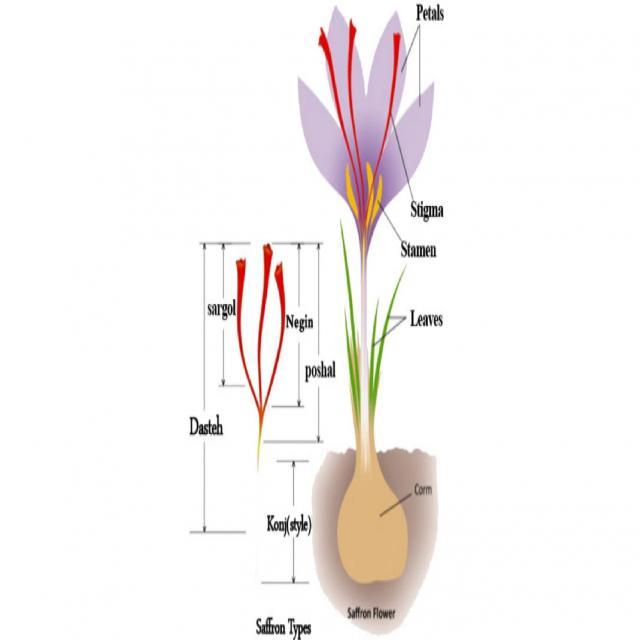Flower: (295, 4, 436, 228)
stigma: (371, 30, 404, 176), (314, 24, 344, 158), (248, 246, 275, 388), (266, 258, 295, 386), (232, 256, 252, 392), (344, 21, 362, 158)
